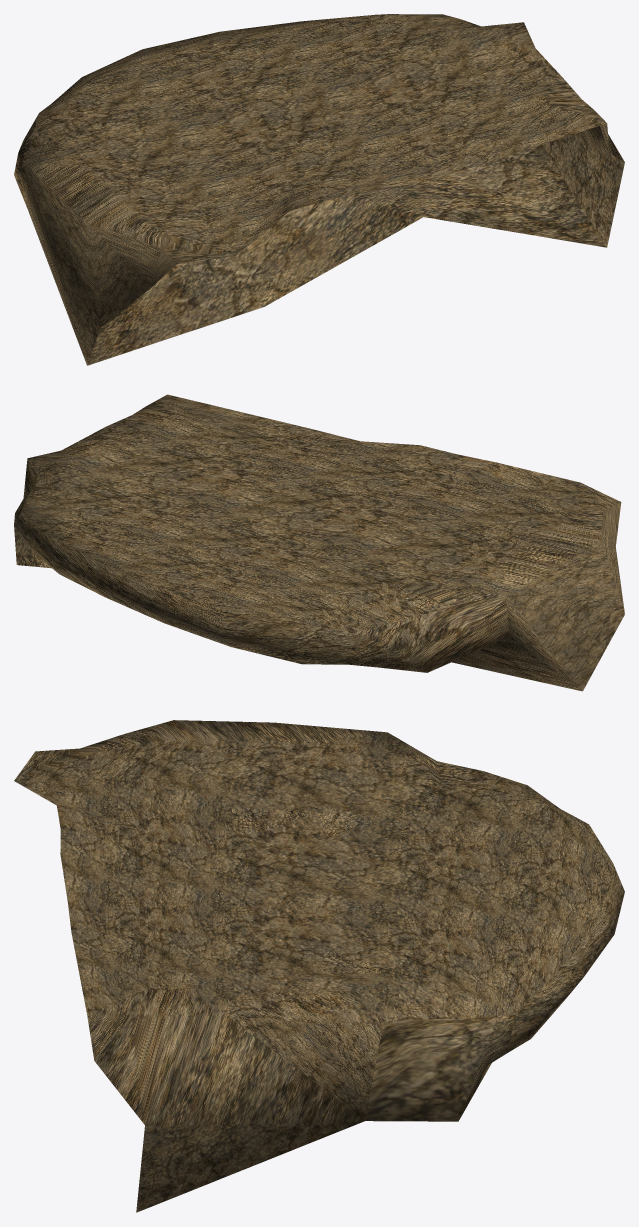
The model's file is CH09_SMAUG_PLAYSURFACE_LONELYMOUNTAIN_LM_PLAYSURFACE31.obj.
3 views of the same model, one above another, from view 1: azimuth 30°, elevation 25°; view 2: azimuth 150°, elevation 25°; view 3: azimuth 270°, elevation 25° (orthographic). The views are drawn at different scales.
Visible parts, largest first — view 1: M_playsurface31; view 2: M_playsurface31; view 3: M_playsurface31.
Boxes of the visible parts, x1,y1,x2,y2 form: M_playsurface31: [14, 14, 624, 365]; M_playsurface31: [14, 394, 624, 691]; M_playsurface31: [14, 720, 624, 1212].
Bounding box in the file's own units: 2700 × 839 × 2076.
